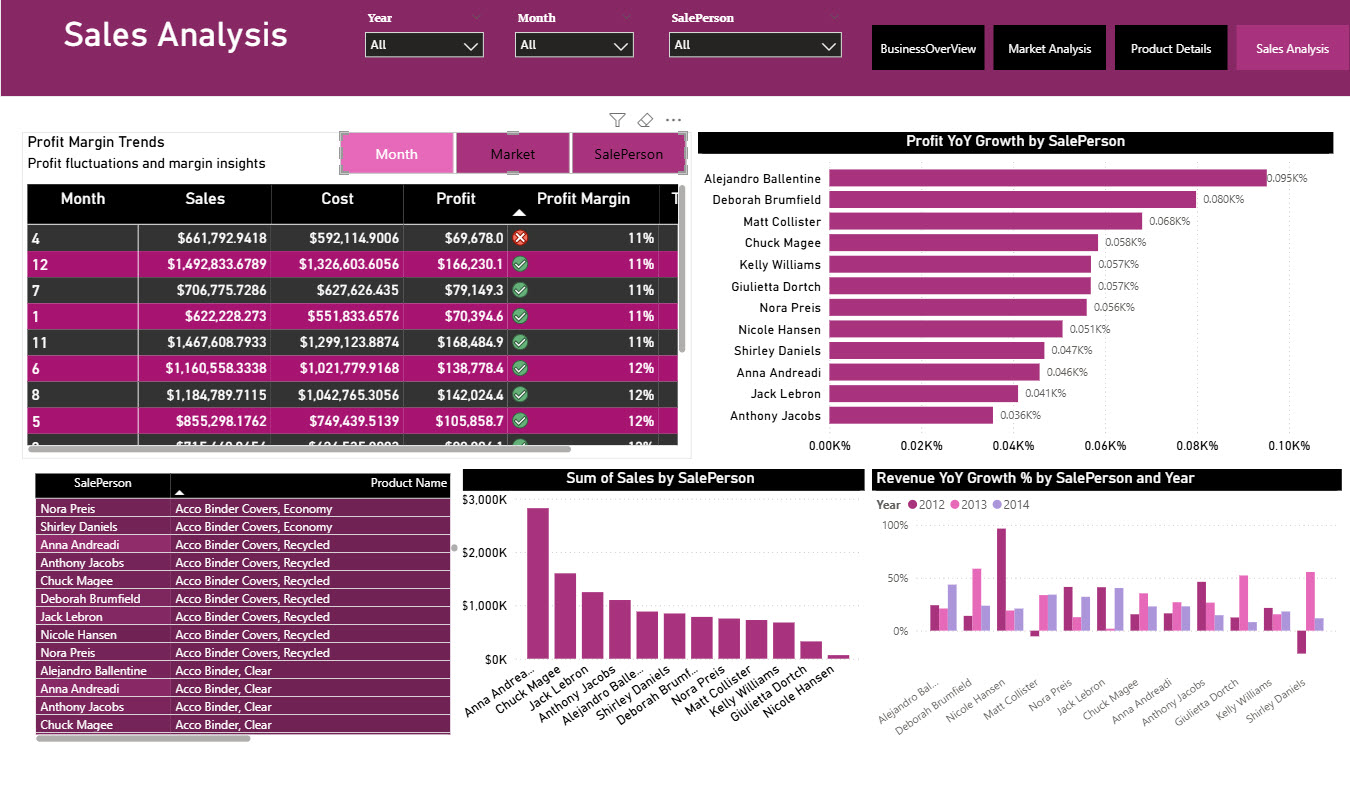

This screenshot's page, from the dashboard's own definition file:
{"tool":"powerbi","page":{"name":"Sales Analysis","canvas":[1500,894],"ordinal":3},"visuals":[{"type":"clusteredBarChart","fields":{"Category":["Orders.SalePerson"],"Y":["Dim_Date.Profit YoY Growth"]},"box":[776,150,706,363],"z":1000},{"type":"pivotTable","fields":{"Rows":["fact_Orders.Category","fact_Orders.Product Name"],"Values":["Sum(fact_Orders.Profit)"]},"box":[24.4,524.4,744.4,370],"z":2000},{"type":"pivotTable","title":"Profit Margin Trends","fields":{"Rows":["Dim_Date.Month"],"Values":["Sum(Orders.Sales)","Sum(Orders.Cost)","Sum(Orders.Profit)","Orders.Profit Margin","Sum(Orders.Quantity)"]},"box":[24,150,744,363],"z":3000},{"type":"advancedSlicerVisual","fields":{"Values":["Parameter.Parameter"]},"box":[377.5,150,386.2,46.2],"z":4000},{"type":"shape","box":[0,0,1520,111.2],"z":5000},{"type":"clusteredColumnChart","fields":{"Category":["Orders.SalePerson"],"Series":["Dim_Date.Year"],"Y":["Dim_Date.Revenue YoY Growth %"]},"box":[775.6,524.4,715.6,370],"z":6000},{"type":"textbox","box":[65,13,403,82],"z":7000},{"type":"slicer","fields":{"Values":["Dim_Date.Year"]},"box":[396,10,152,61],"z":8000},{"type":"slicer","fields":{"Values":["Dim_Date.Month"]},"box":[562,10,152,61],"z":9000},{"type":"slicer","fields":{"Values":["Orders.SalePerson"]},"box":[733,10,212,61],"z":10000},{"type":"pageNavigator","box":[969,31,531,50],"z":11000}]}

Visuals, with their boxes in screenshot pixels (x1, y1, x2, y2), scaled from the page's 1500x894 canvas onto the 1350x795 screenshot:
clusteredBarChart - Orders.SalePerson x Dim_Date.Profit YoY Growth: Rect(698, 133, 1334, 456)
pivotTable - fact_Orders.Category x fact_Orders.Product Name: Rect(22, 466, 692, 794)
"Profit Margin Trends" pivotTable: Rect(22, 133, 691, 456)
advancedSlicerVisual - Parameter.Parameter: Rect(340, 133, 687, 174)
shape: Rect(0, 0, 1349, 99)
clusteredColumnChart - Orders.SalePerson x Dim_Date.Year: Rect(698, 466, 1342, 794)
textbox: Rect(58, 12, 421, 84)
slicer - Dim_Date.Year: Rect(356, 9, 493, 63)
slicer - Dim_Date.Month: Rect(506, 9, 643, 63)
slicer - Orders.SalePerson: Rect(660, 9, 850, 63)
pageNavigator: Rect(872, 28, 1349, 72)
